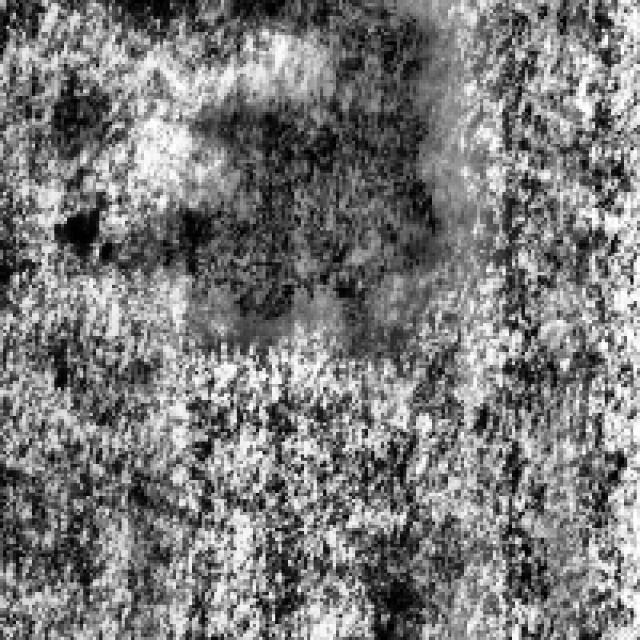Scratches: (170, 0, 444, 304)
